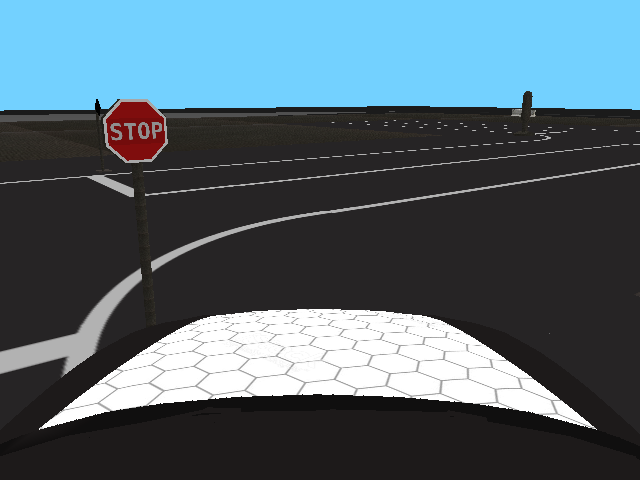stop: (102, 99, 169, 163)
